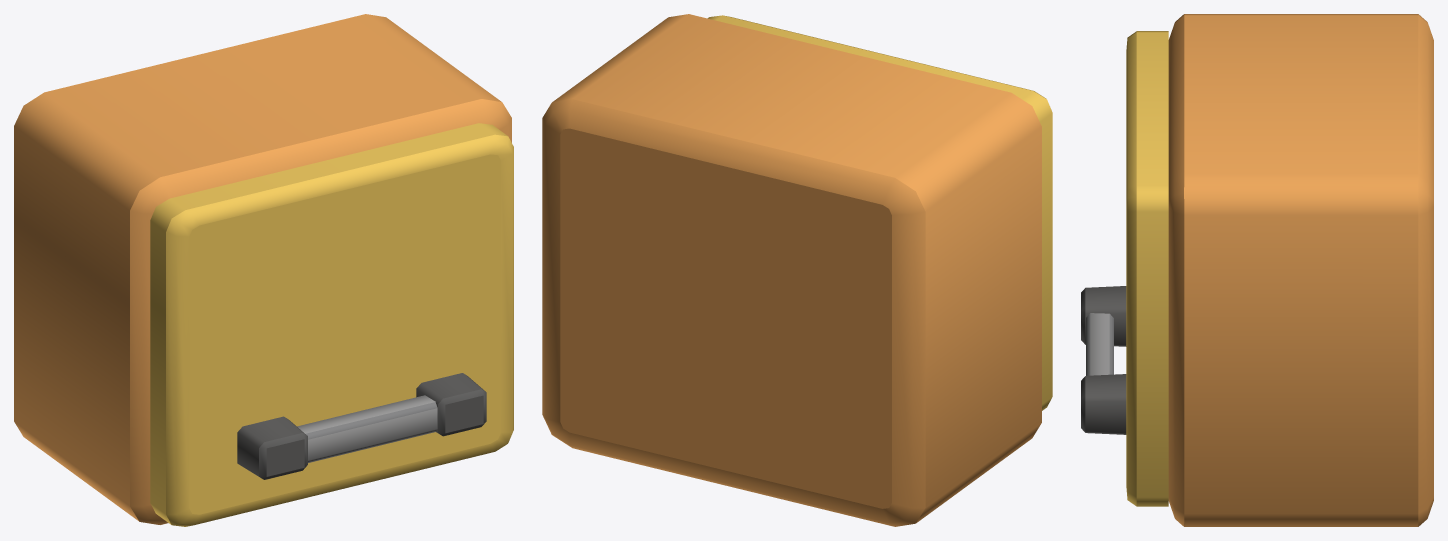
File: Furnit_G_9.glb
3 views of the same model, side by side, from view 1: azimuth 30°, elevation 25°; view 2: azimuth 150°, elevation 25°; view 3: azimuth 270°, elevation 25° (orthographic).
Visible parts, largest first — view 1: Furnit_G_9_S1, Furnit_G_9; view 2: Furnit_G_9, Furnit_G_9_S1; view 3: Furnit_G_9, Furnit_G_9_S1.
Part boxes in pixels (x1,y1,x2,y2): Furnit_G_9_S1: (150,123,513,526); Furnit_G_9: (14,14,511,524); Furnit_G_9: (542,14,1041,526); Furnit_G_9_S1: (707,15,1052,410); Furnit_G_9: (1168,14,1433,526); Furnit_G_9_S1: (1081,31,1168,506).
Bounding box in the file's own units: 0.6 × 0.5223 × 0.4755.
Materials: 1 (1 with a texture image).
